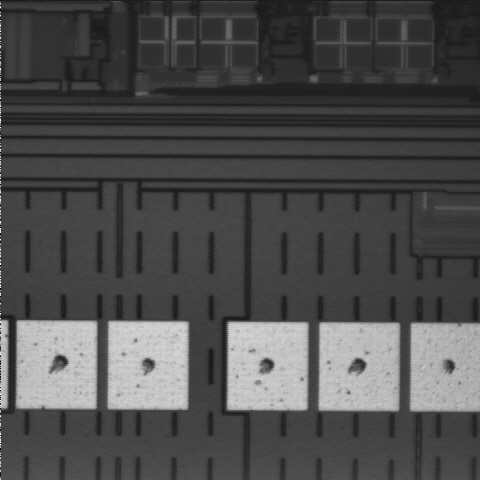pad: (228, 322, 308, 410), (17, 321, 97, 408), (108, 322, 188, 409), (319, 323, 398, 410)
